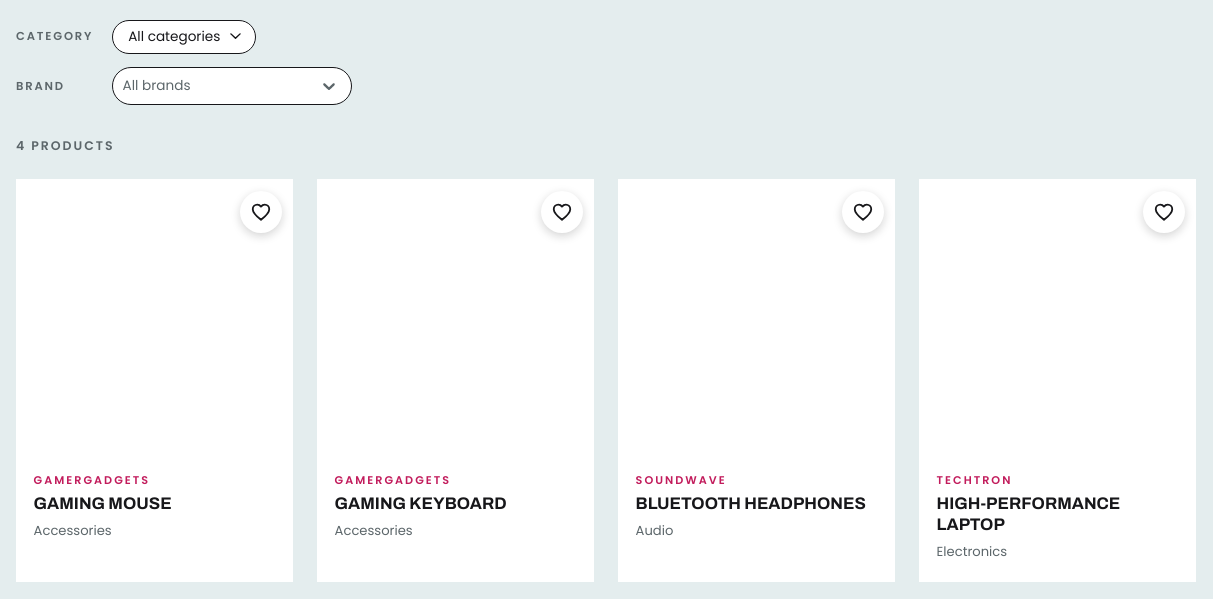
Test: ProductsPage filters › selecting a category narrows the grid to that category
The image size is (1213, 599).
Step 1. Select "Accessories" in the dropdown labelled "Category" → {"x": 184, "y": 37}, box [112,20,256,54]
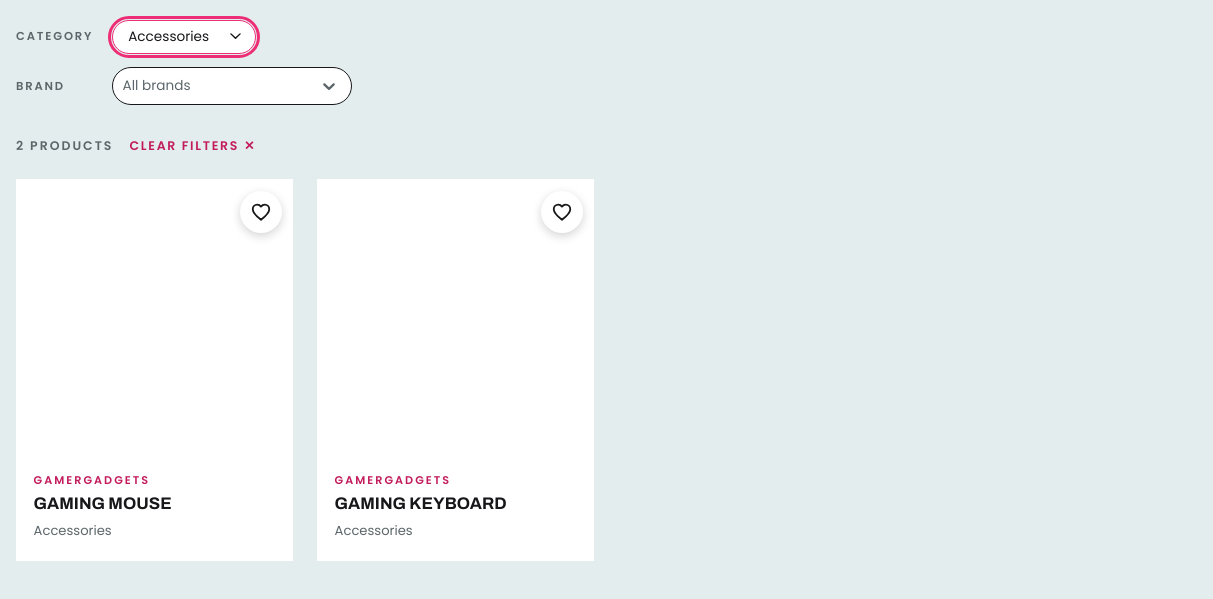
Expected: the link "Gaming Mouse" is shown, [34,494,172,513]
Expected: the text "2 products" is shown, [16,137,114,155]
Expected: the link "Bluetooth Headphones" is gone
